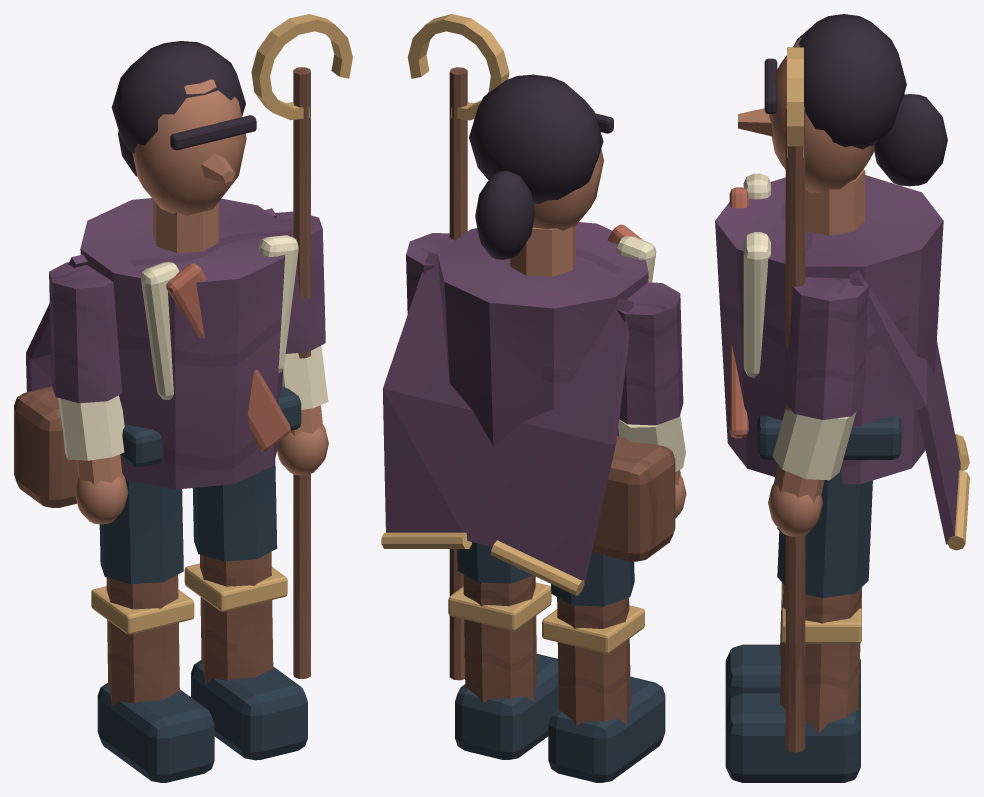
Rendered from mage.glb.
The picture shows the model from 3 angles, left to right: view 1: azimuth 30°, elevation 25°; view 2: azimuth 150°, elevation 25°; view 3: azimuth 270°, elevation 25°; orthographic projection. The views are drawn at different scales.
Visible parts, largest first — view 1: chest_mesh, head_mesh, shinL_mesh, shinR_mesh, foreR_mesh, upperL_mesh, thighL_mesh, thighR_mesh, foreL_mesh, upperR_mesh, cape_mesh; view 2: cape_mesh, chest_mesh, head_mesh, shinL_mesh, shinR_mesh, foreR_mesh, upperL_mesh, thighL_mesh, foreL_mesh, thighR_mesh, upperR_mesh; view 3: chest_mesh, head_mesh, shinR_mesh, foreR_mesh, upperR_mesh, cape_mesh, thighR_mesh, shinL_mesh.
Boxes of the visible parts, <box> form: chest_mesh: <box>14,198,301,507</box>; head_mesh: <box>111,41,256,252</box>; shinL_mesh: <box>91,574,214,782</box>; shinR_mesh: <box>184,552,307,760</box>; foreR_mesh: <box>251,14,352,678</box>; upperL_mesh: <box>49,262,122,403</box>; thighL_mesh: <box>99,480,183,584</box>; thighR_mesh: <box>192,459,277,561</box>; foreL_mesh: <box>58,395,128,524</box>; upperR_mesh: <box>275,211,325,353</box>; cape_mesh: <box>26,208,276,391</box>; cape_mesh: <box>381,252,633,595</box>; chest_mesh: <box>437,222,675,561</box>; head_mesh: <box>469,74,613,276</box>; shinL_mesh: <box>542,597,665,782</box>; shinR_mesh: <box>448,574,558,759</box>; foreR_mesh: <box>407,14,509,680</box>; upperL_mesh: <box>616,282,683,425</box>; thighL_mesh: <box>551,552,634,606</box>; foreL_mesh: <box>618,415,686,518</box>; thighR_mesh: <box>457,542,532,583</box>; upperR_mesh: <box>406,233,455,313</box>; chest_mesh: <box>715,173,943,484</box>; head_mesh: <box>738,14,947,235</box>; shinR_mesh: <box>725,584,861,782</box>; foreR_mesh: <box>768,47,856,752</box>; upperR_mesh: <box>783,277,869,419</box>; cape_mesh: <box>849,270,969,550</box>; thighR_mesh: <box>777,467,872,597</box>; shinL_mesh: <box>725,582,860,708</box>.
Bounding box in the file's own units: 0.8254 × 1.95 × 0.602.
Materials: 8 (2 with a texture image).
